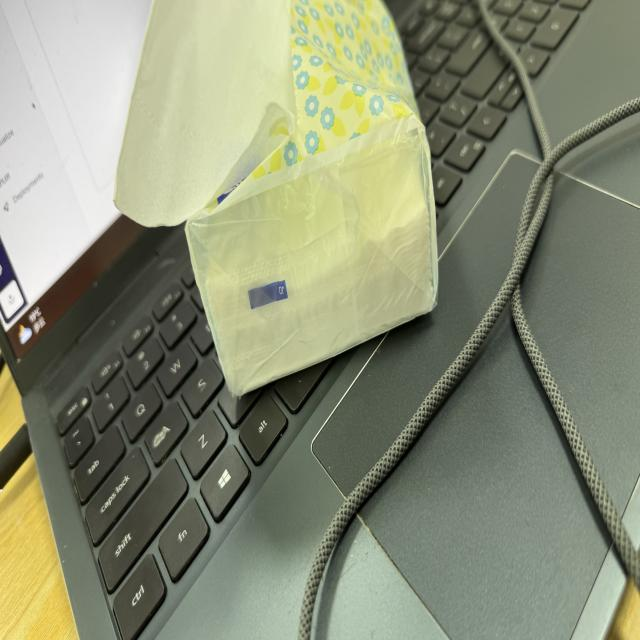tissue: (116, 0, 437, 394)
